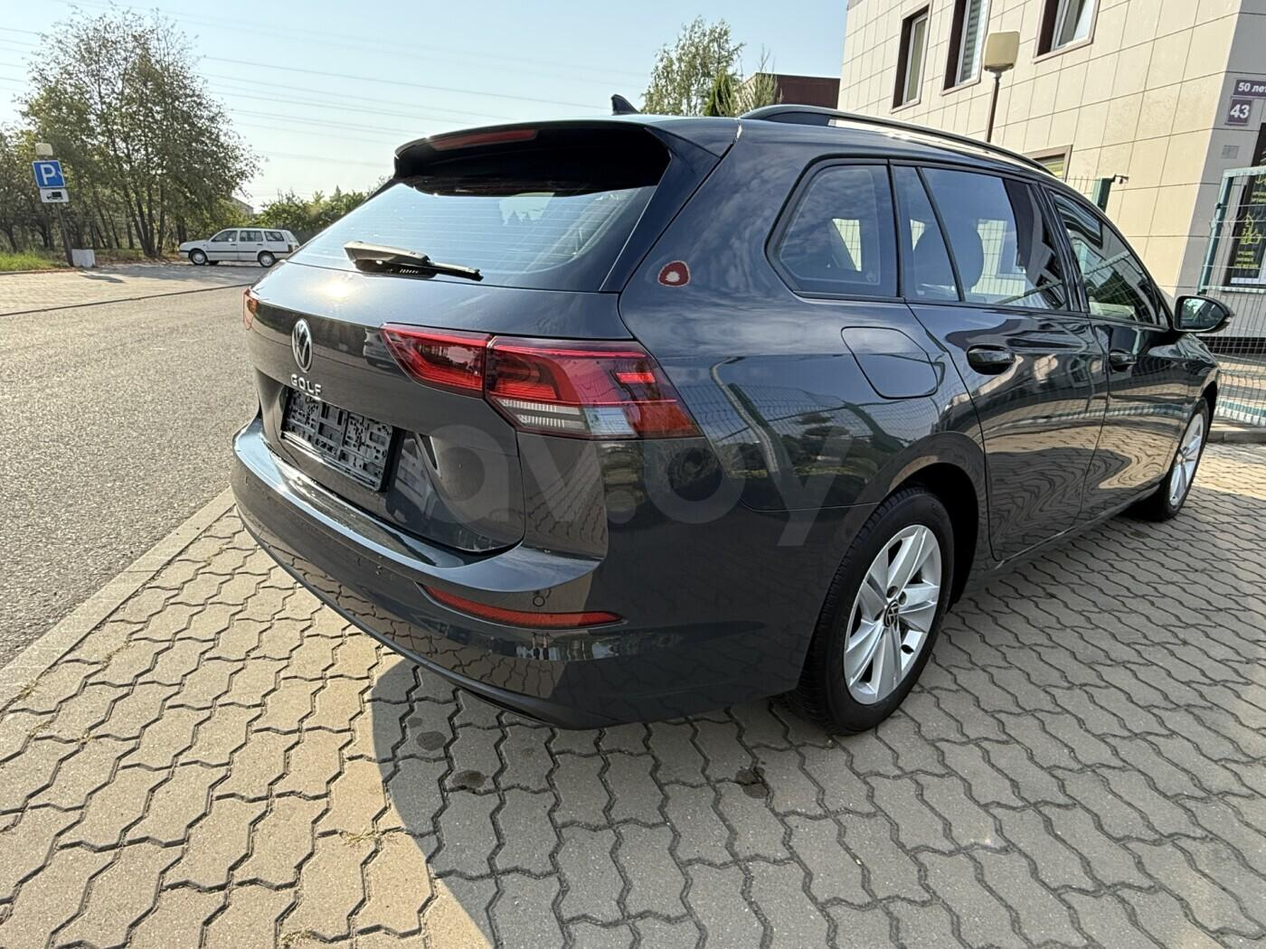Golf_2019: (231, 103, 1227, 746)
